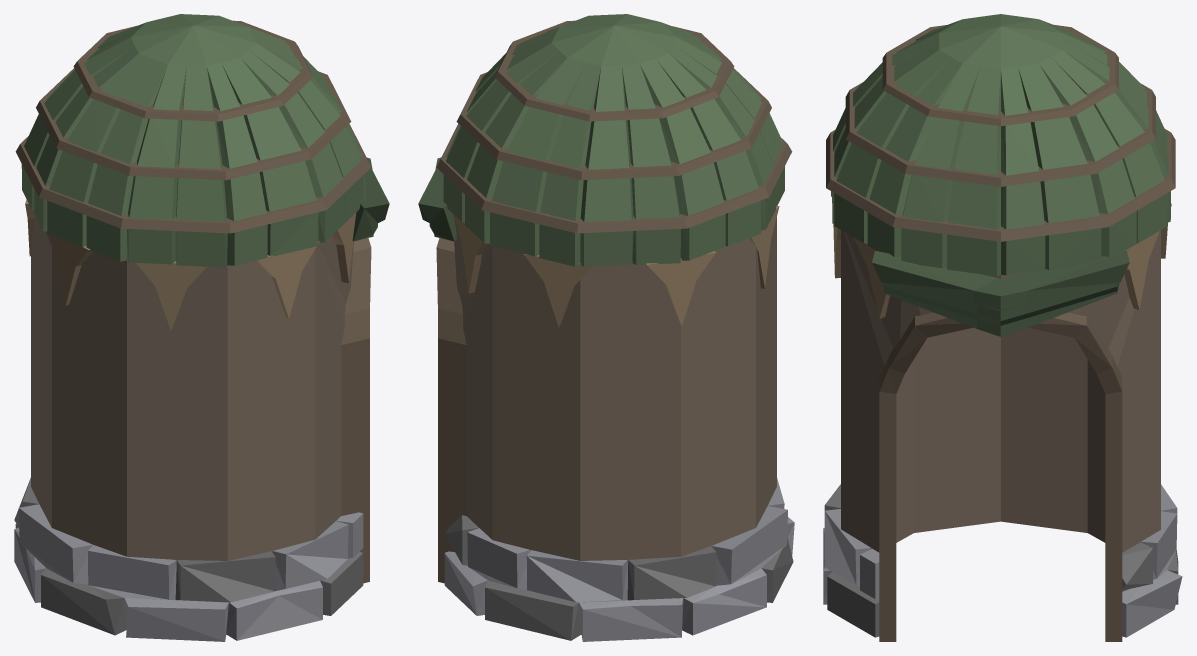
Rendered from _watchtoer_1.fbx.
3 views of the same model, side by side, from view 1: azimuth 30°, elevation 25°; view 2: azimuth 150°, elevation 25°; view 3: azimuth 270°, elevation 25° (orthographic). The views are drawn at different scales.
Parts seen in each view (by area): view 1: watchtoer_1; view 2: watchtoer_1; view 3: watchtoer_1.
Boxes of the visible parts, bbox=[...] form: watchtoer_1: bbox=[14, 14, 389, 641]; watchtoer_1: bbox=[418, 14, 794, 641]; watchtoer_1: bbox=[823, 14, 1182, 641].
Size of the model in its own units: 381 by 593 by 346.
